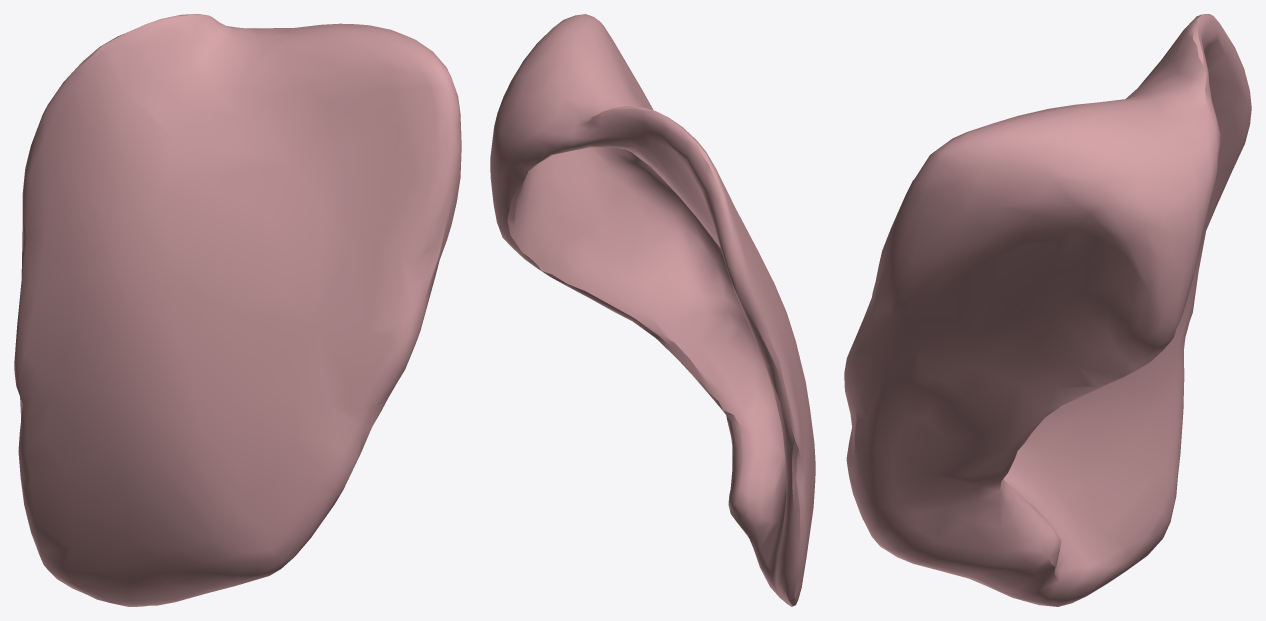
File: fma49299_mm461.glb
The picture shows the model from 3 angles, left to right: view 1: azimuth 30°, elevation 25°; view 2: azimuth 150°, elevation 25°; view 3: azimuth 270°, elevation 25°; orthographic projection. The views are drawn at different scales.
Visible parts, largest first — view 1: FMA49299_MM461; view 2: FMA49299_MM461; view 3: FMA49299_MM461.
Part boxes in pixels (x1,y1,x2,y2): FMA49299_MM461: (14, 14, 461, 606); FMA49299_MM461: (490, 14, 815, 606); FMA49299_MM461: (844, 14, 1251, 606).
Size of the model in its own units: 0.0383 by 0.0554 by 0.0327.
